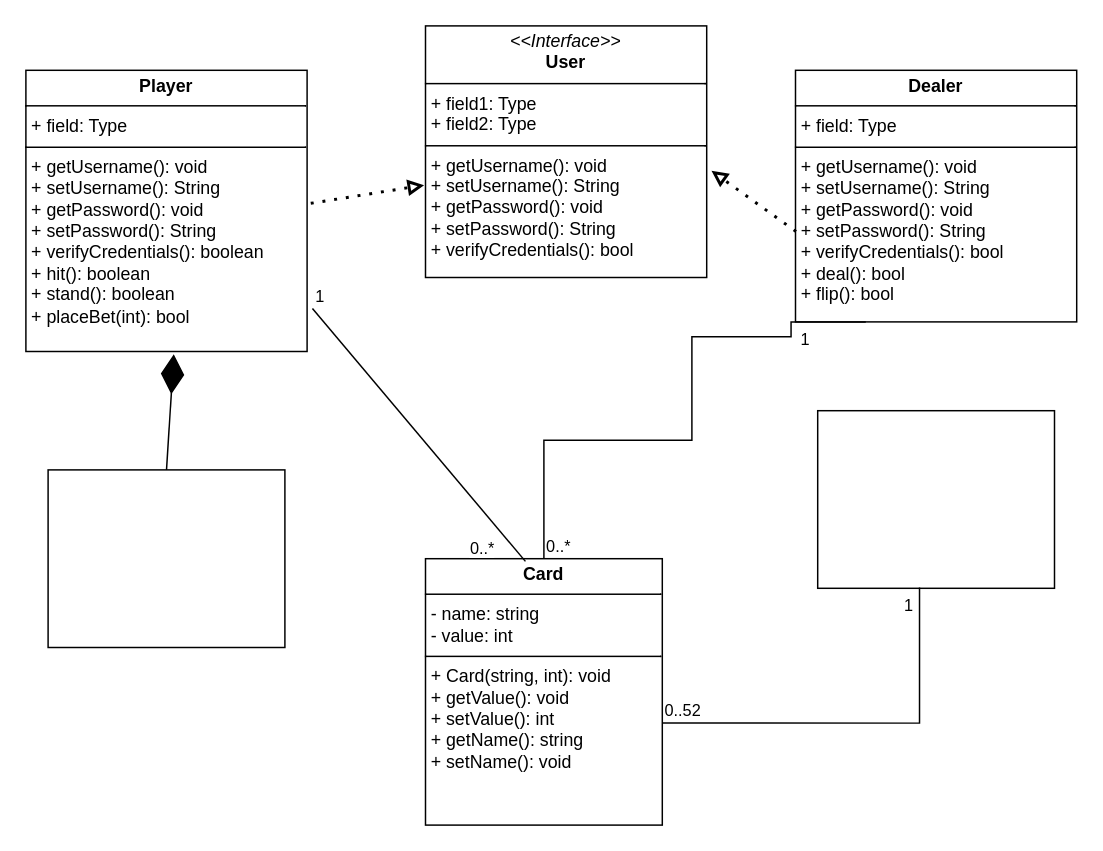
This 1103x851 diagram has some shape labels left out. Each missing label, with the centre of its shape:
"Amount + total:int + addAmount(): int + deductAmount(): int + getAmount(): int" goes at pixel 166 558.
"Deck + field: Type + getCard(): Card + resetDeck(): bool + shuffleDeck(): void" goes at pixel 935 498.
